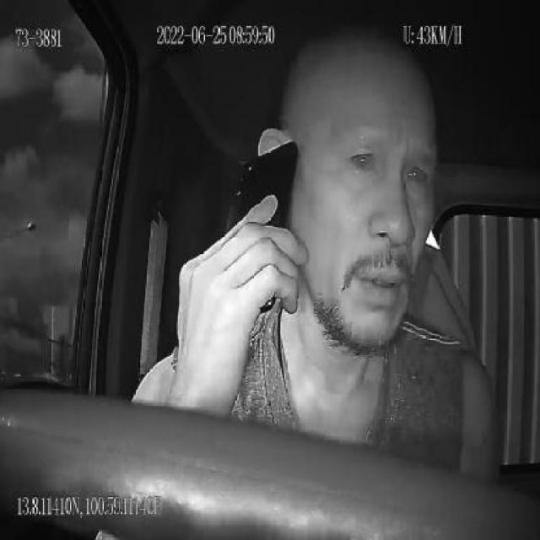phone: (228, 139, 298, 312)
